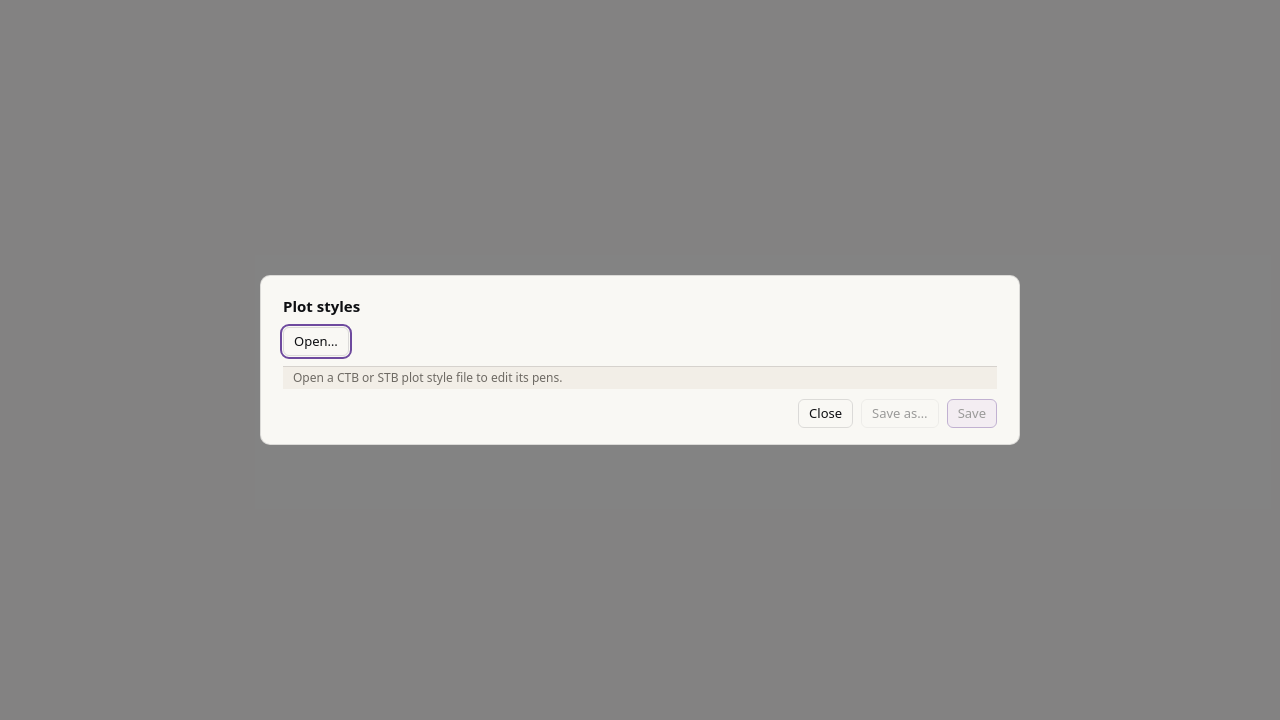
it: a CTB opens with a row per colour: pen colour, screening, lineweight and plot
The width and height of the screenshot is (1280, 720).
Click the button "Open…": click(316, 342) [283,327,349,356]
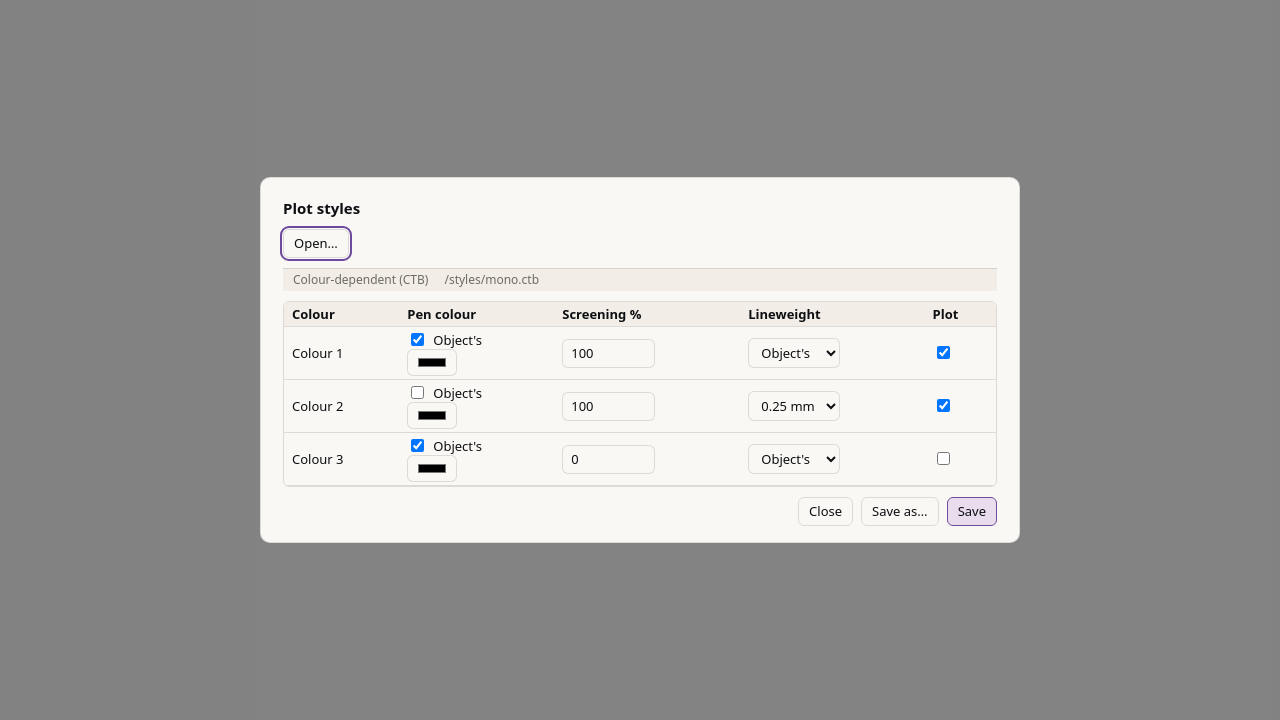
Now the table is shown, box [284,302,996,486]
Now the text "Colour-dependent (CTB)" is shown, box [293,272,428,288]
Now the number of rows is 4, box [284,302,996,327]; [284,327,996,380]; [284,380,996,433]; [284,433,996,486]
